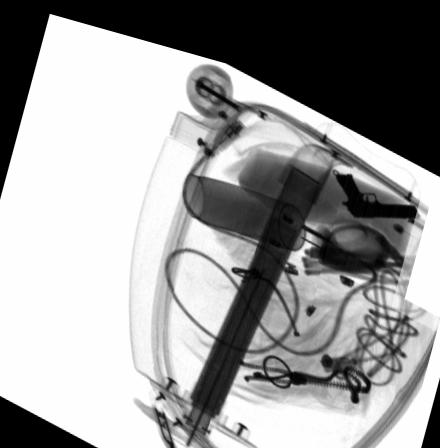Gun: (334, 153, 423, 197)
